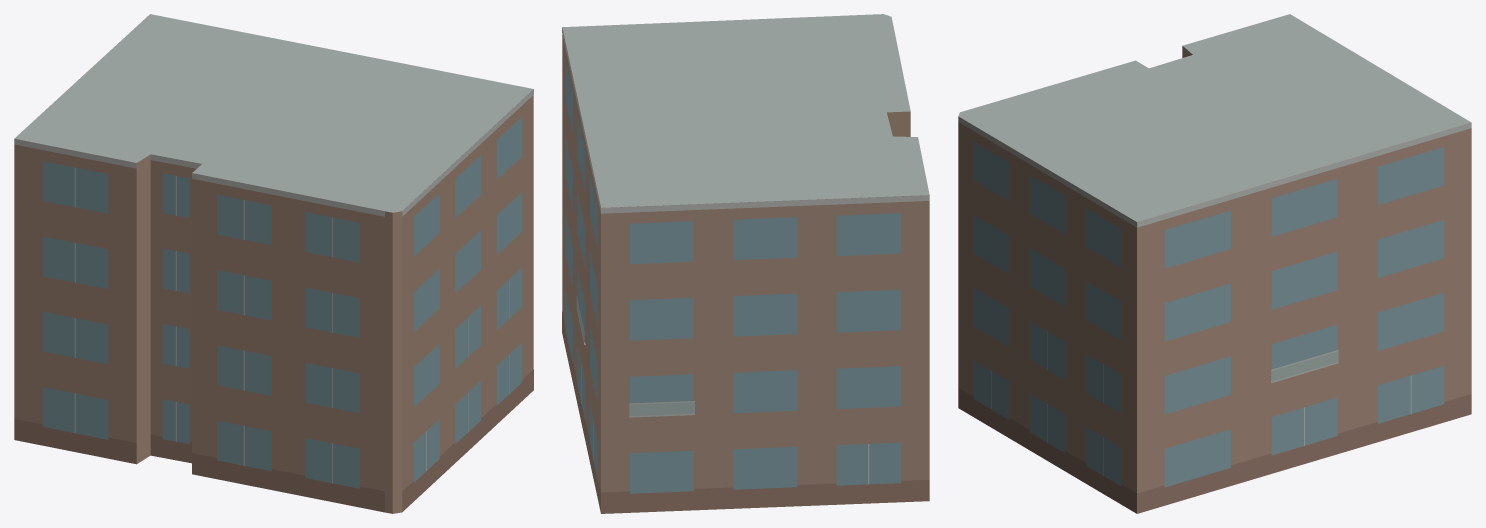
Rendered from survey-upis-32805084.glb.
The picture shows the model from 3 angles, left to right: view 1: azimuth 30°, elevation 25°; view 2: azimuth 150°, elevation 25°; view 3: azimuth 270°, elevation 25°; orthographic projection. The views are drawn at different scales.
Visible parts, largest first — view 1: survey-upis-32805084.tmp; view 2: survey-upis-32805084.tmp; view 3: survey-upis-32805084.tmp.
Boxes of the visible parts, bbox=[...] form: survey-upis-32805084.tmp: bbox=[14, 14, 533, 513]; survey-upis-32805084.tmp: bbox=[562, 14, 929, 513]; survey-upis-32805084.tmp: bbox=[958, 14, 1471, 513].
Size of the model in its own units: 19.6 by 12.8 by 20.42.
